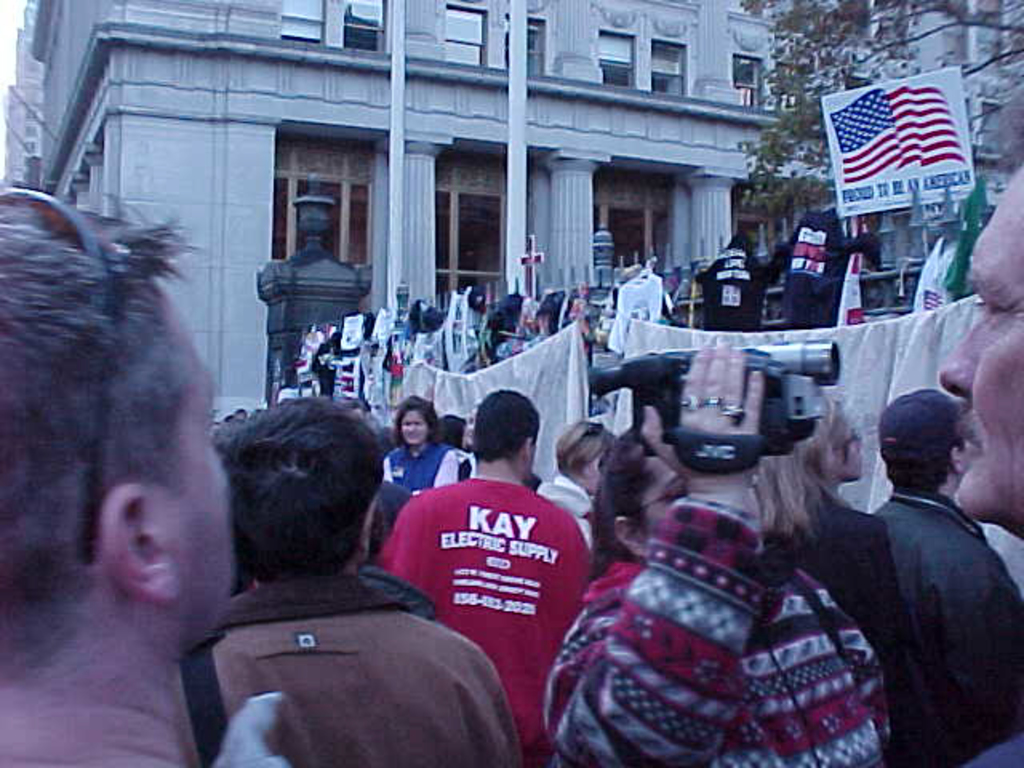Human-face: (154, 286, 235, 646), (939, 165, 1022, 515), (642, 456, 686, 544)
